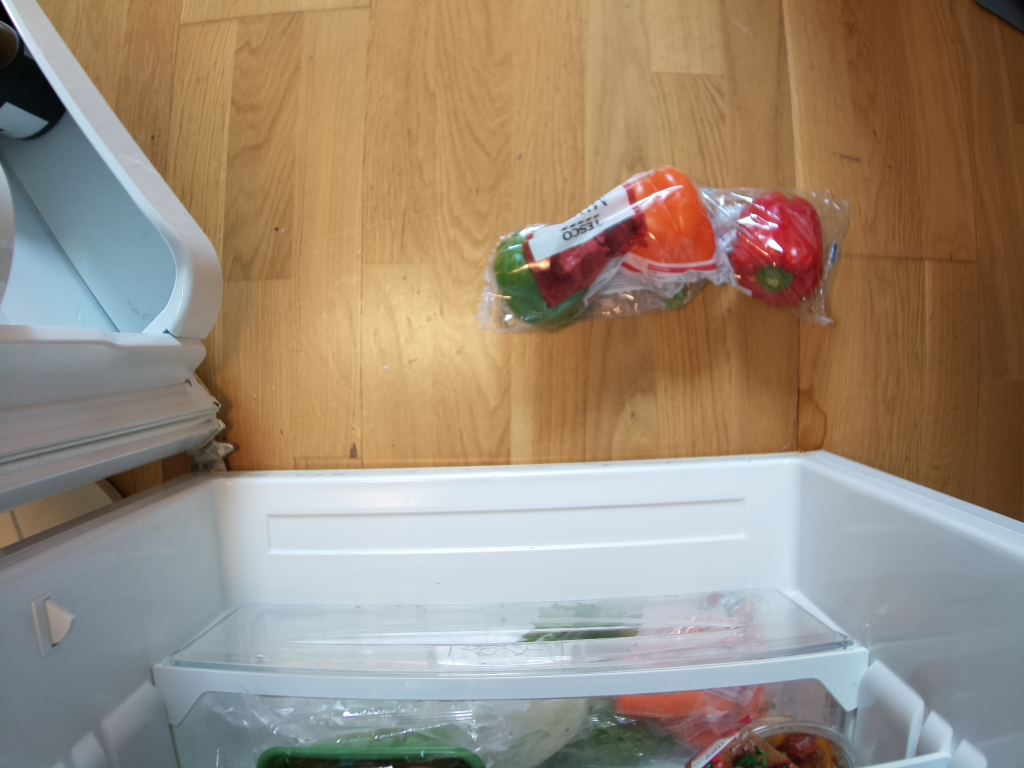pepper: (601, 169, 721, 292), (729, 191, 827, 310), (494, 232, 593, 329)
